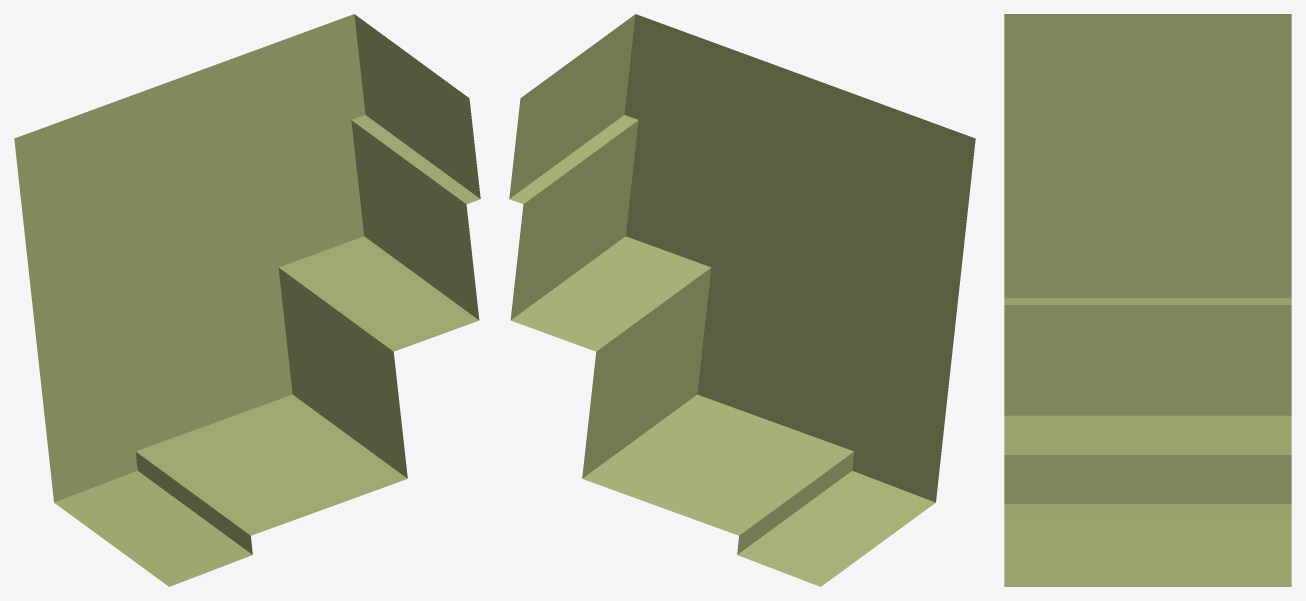
The picture shows the model from 3 angles, left to right: view 1: azimuth 30°, elevation 25°; view 2: azimuth 150°, elevation 25°; view 3: azimuth 270°, elevation 25°; orthographic projection. The views are drawn at different scales.
Visible parts, largest first — view 1: 0_0_2_0_1_0_1_0; view 2: 0_0_2_0_1_0_1_0; view 3: 0_0_2_0_1_0_1_0.
Part boxes in pixels (box(x1,y1,x2,y2)): 0_0_2_0_1_0_1_0: box(14, 14, 480, 586); 0_0_2_0_1_0_1_0: box(509, 14, 975, 586); 0_0_2_0_1_0_1_0: box(1004, 14, 1291, 586).
Bounding box in the file's own units: 15.84 × 17.91 × 9.
